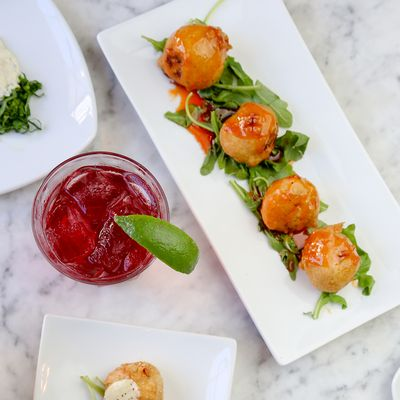curry: (0, 38, 46, 136)
sushi: (0, 0, 98, 197), (31, 152, 175, 286), (32, 315, 238, 400)
